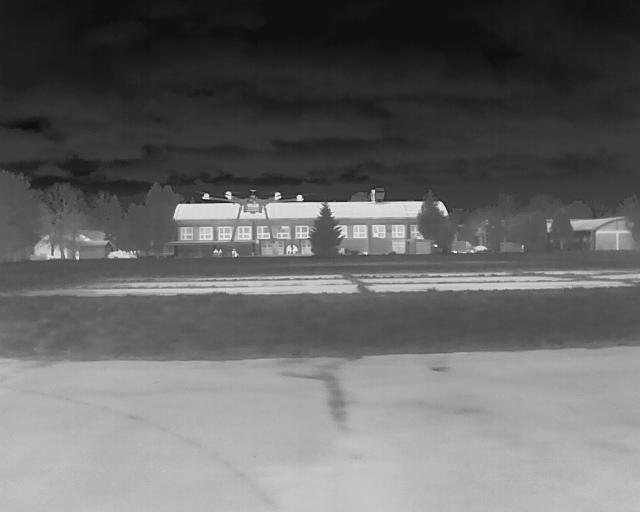drone: (188, 180, 323, 250)
